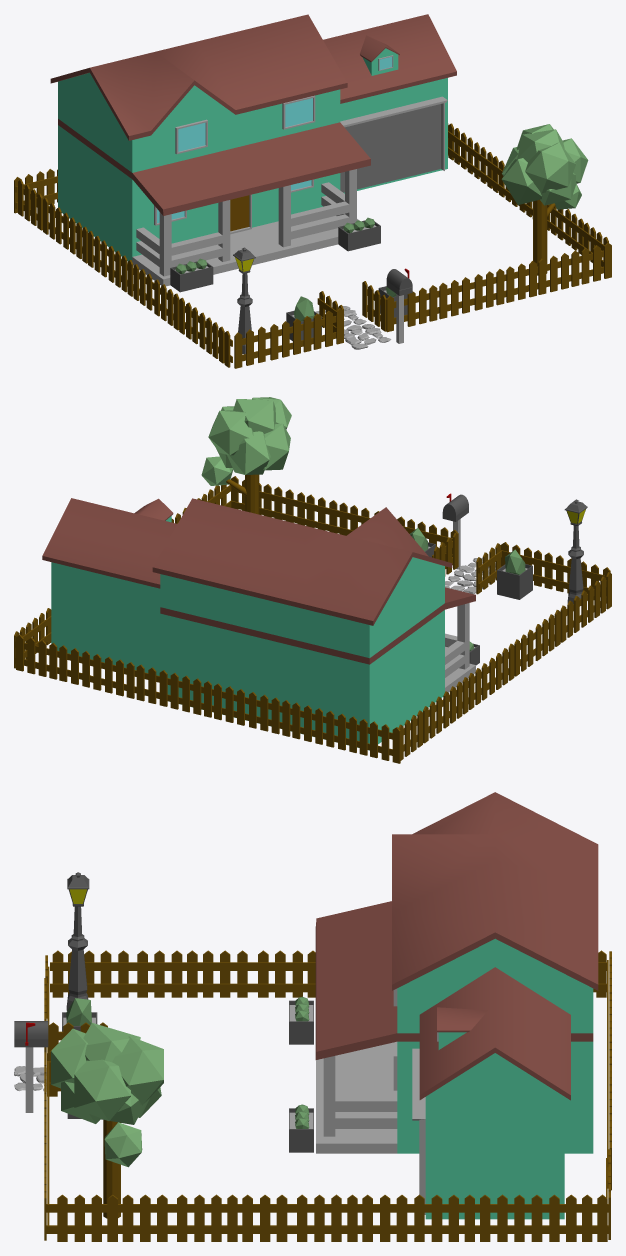
3 views of the same model, one above another, from view 1: azimuth 30°, elevation 25°; view 2: azimuth 150°, elevation 25°; view 3: azimuth 270°, elevation 25° (orthographic). The views are drawn at different scales.
Parts seen in each view (by area): view 1: cit1_pCube11; view 2: cit1_pCube11; view 3: cit1_pCube11.
Part boxes in pixels (x1=…): cit1_pCube11: x1=14, y1=14, x2=611, y2=368; cit1_pCube11: x1=14, y1=397, x2=611, y2=763; cit1_pCube11: x1=14, y1=792, x2=611, y2=1241.
Bounding box in the file's own units: 25.08 × 11.09 × 25.71.
